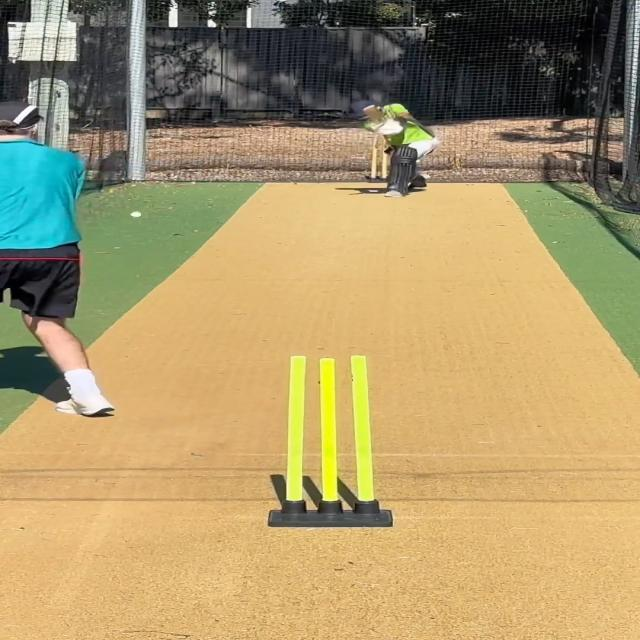ball: (129, 210, 143, 219)
stump: (268, 352, 394, 527)
